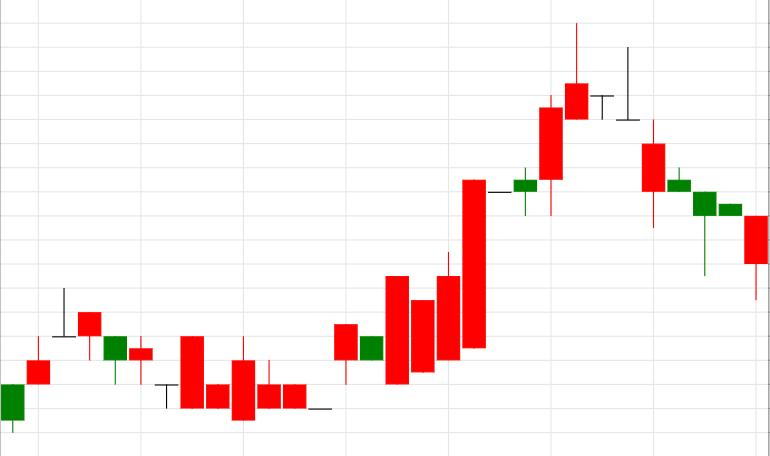hammer_rise: (591, 47, 717, 278)
shooting_star_fall: (412, 22, 588, 373)
